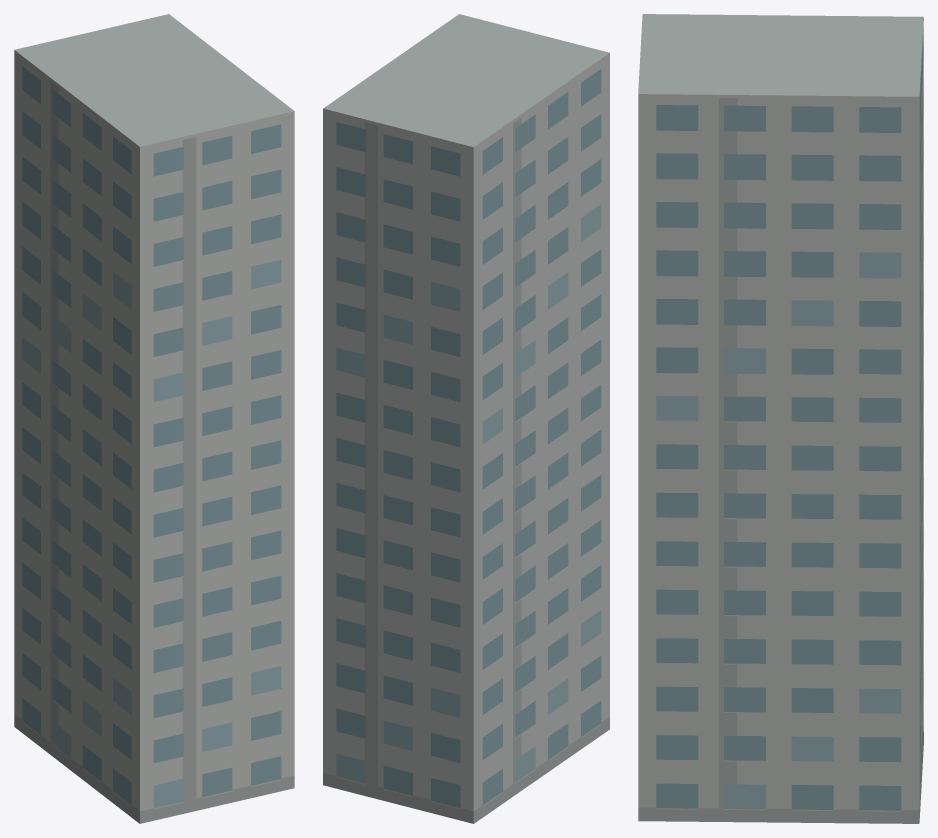
Rendered from residential-45303c55-daab-46a5-983d-1867f6027861.glb.
The picture shows the model from 3 angles, left to right: view 1: azimuth 30°, elevation 25°; view 2: azimuth 150°, elevation 25°; view 3: azimuth 270°, elevation 25°; orthographic projection. The views are drawn at different scales.
Visible parts, largest first — view 1: residential-45303c55-daab-46a5-983d-1867f6027861.tmp; view 2: residential-45303c55-daab-46a5-983d-1867f6027861.tmp; view 3: residential-45303c55-daab-46a5-983d-1867f6027861.tmp.
Boxes of the visible parts, left/top/right/bottom form: residential-45303c55-daab-46a5-983d-1867f6027861.tmp: left=14, top=14, right=294, bottom=823; residential-45303c55-daab-46a5-983d-1867f6027861.tmp: left=323, top=14, right=609, bottom=823; residential-45303c55-daab-46a5-983d-1867f6027861.tmp: left=638, top=14, right=923, bottom=823.
Bounding box in the file's own units: 12.95 × 53 × 18.88.
